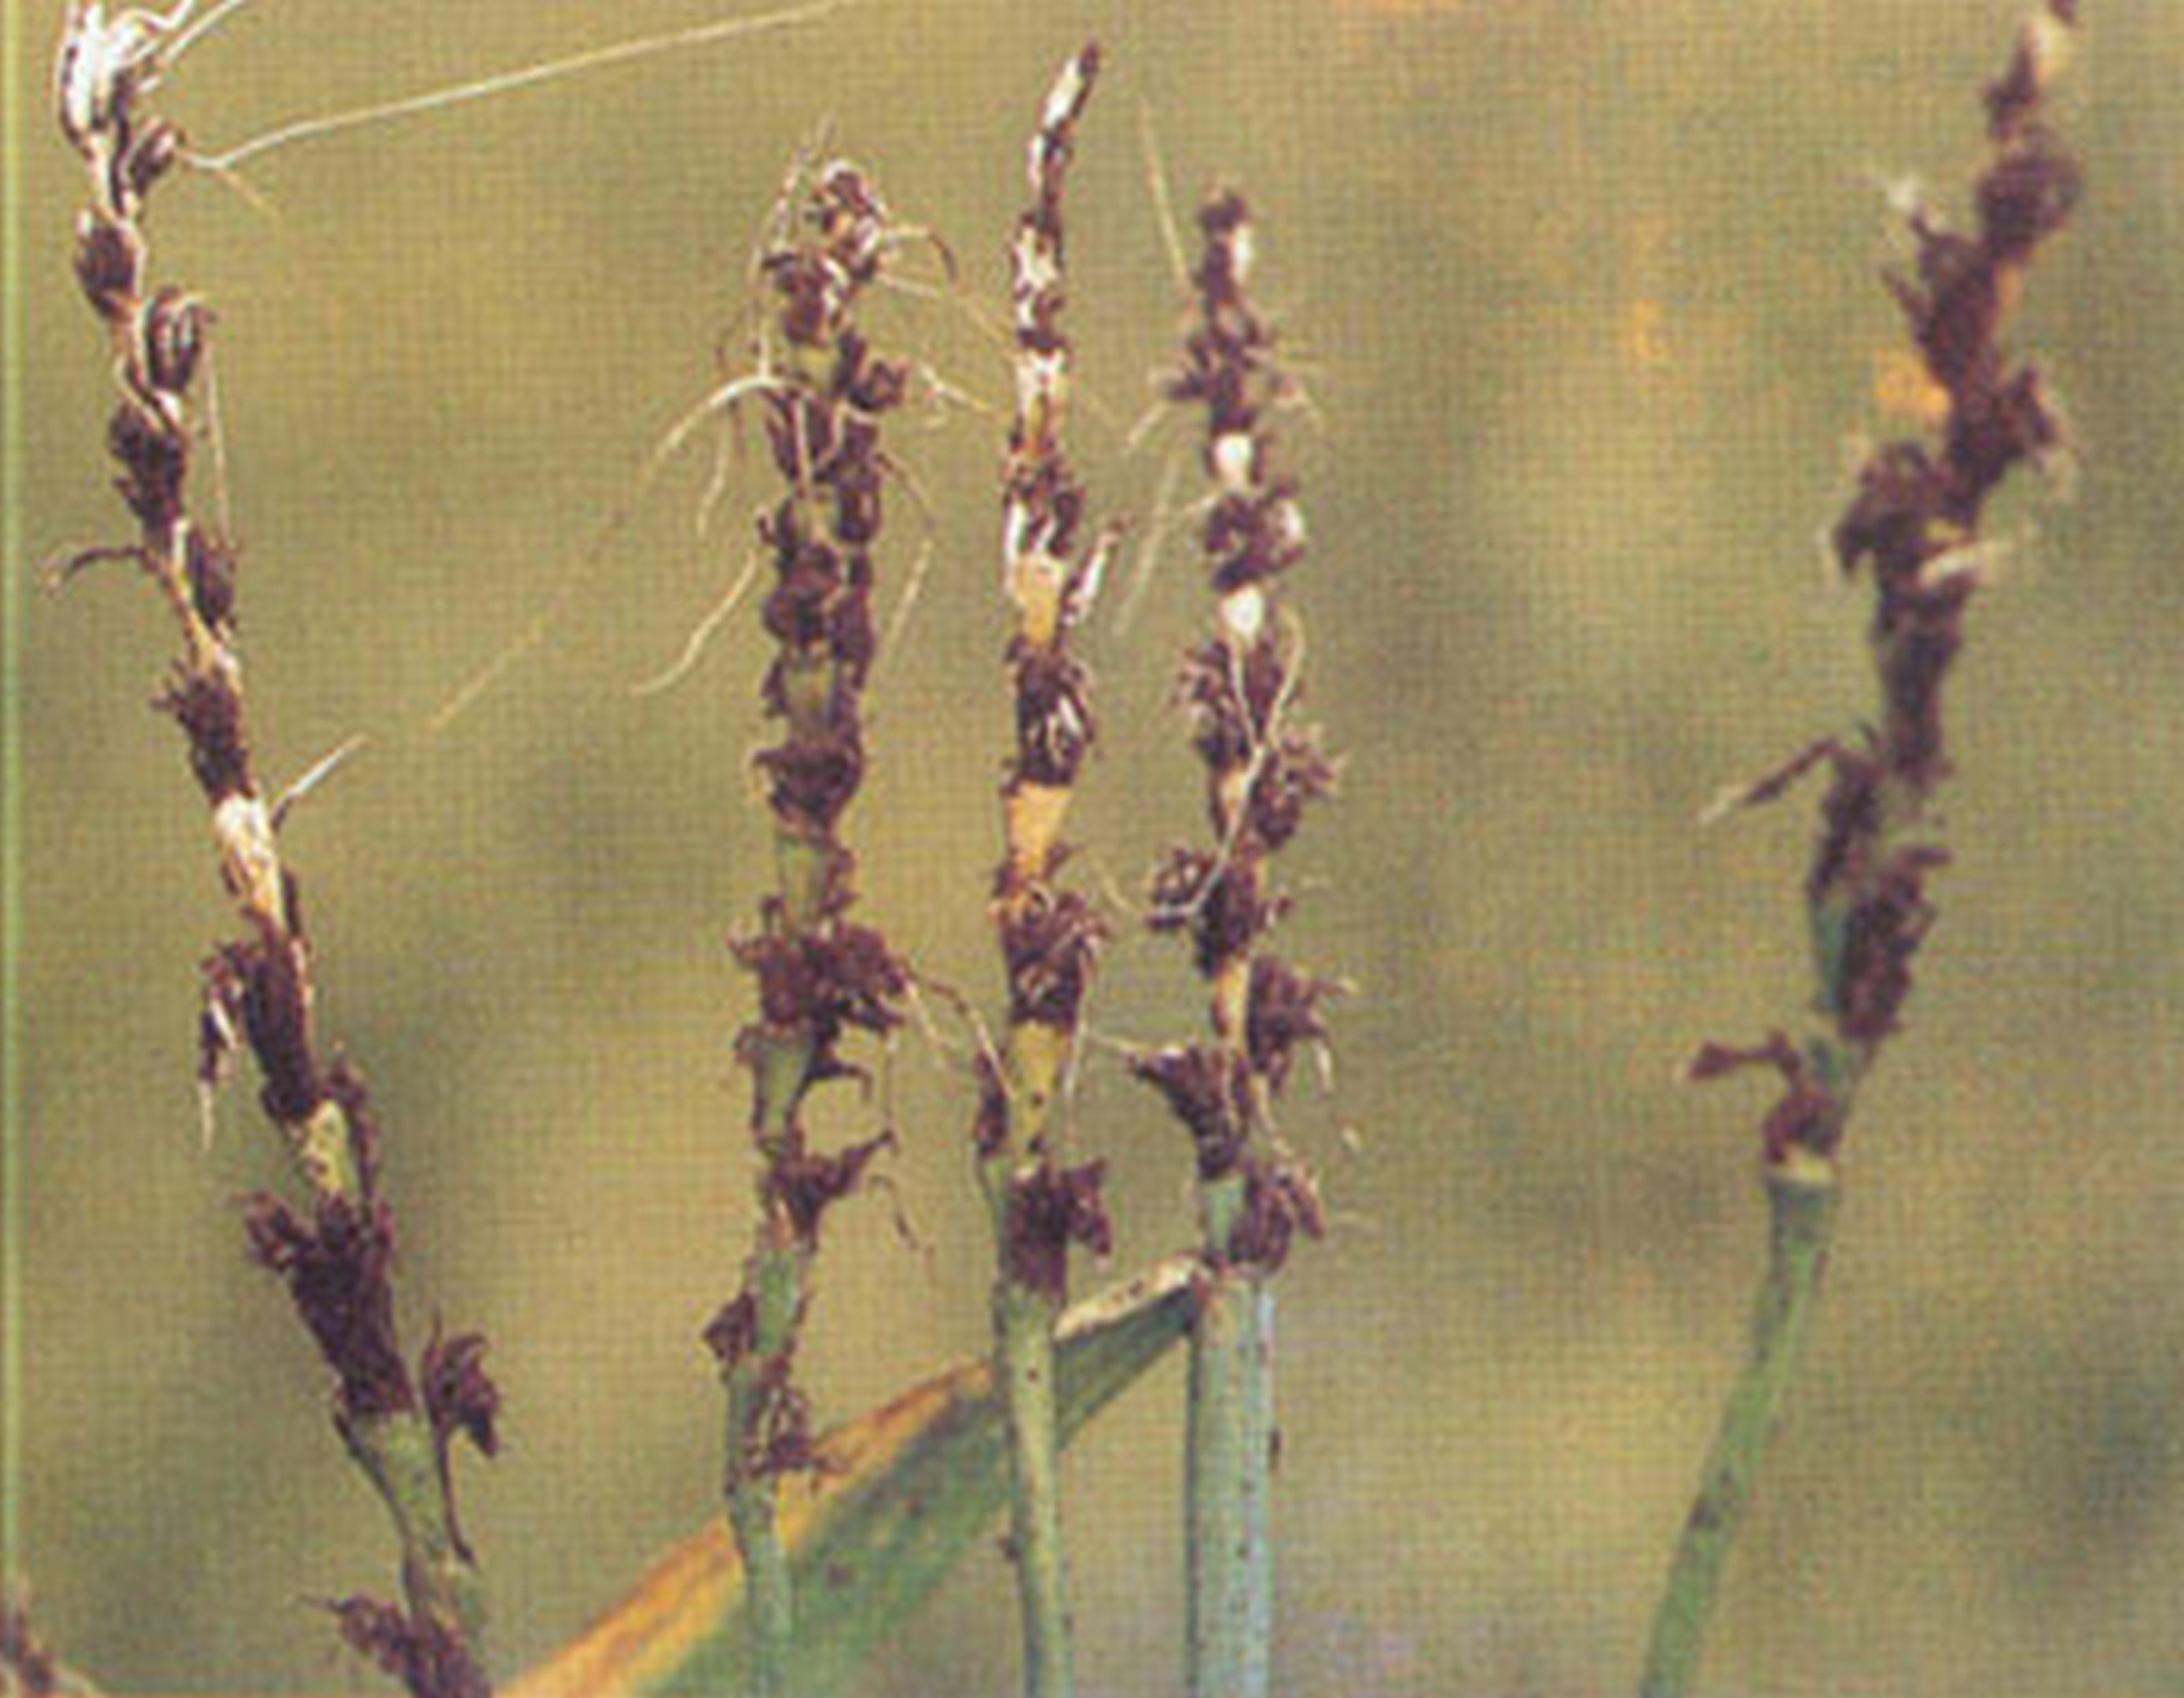Wheat Loose Smut: (647, 115, 1400, 1301)
